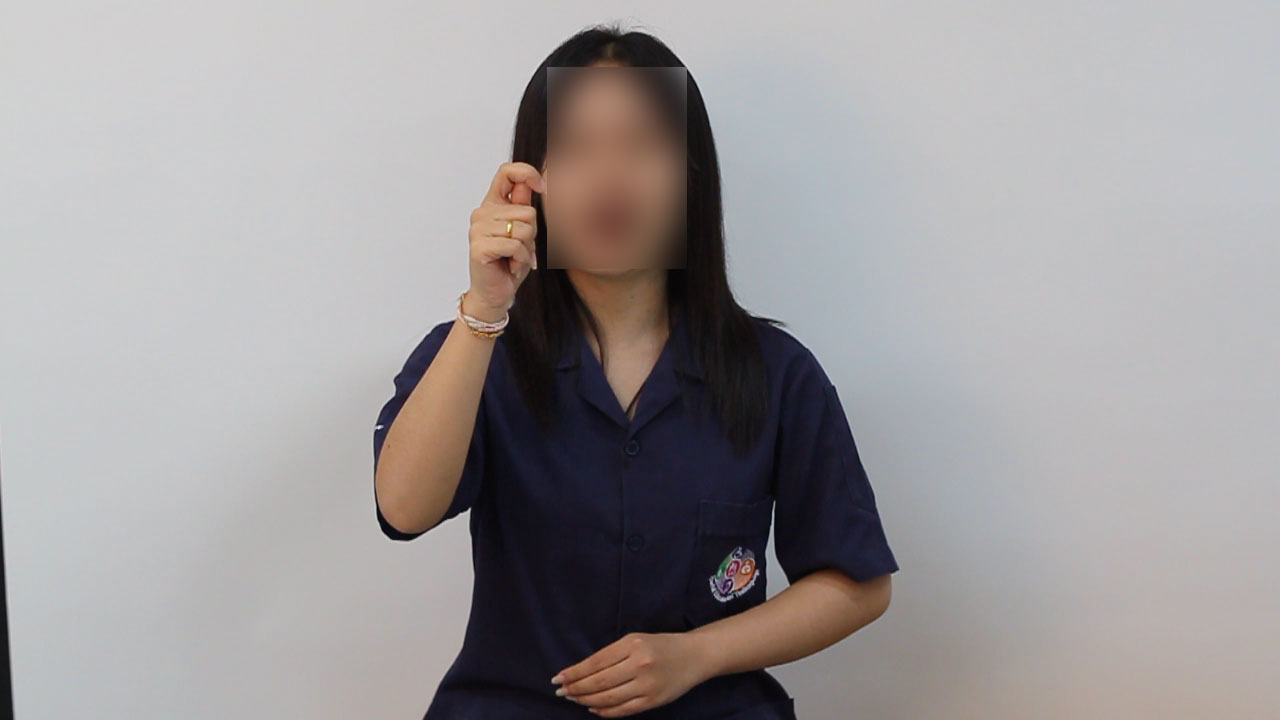or: (458, 153, 556, 318)
